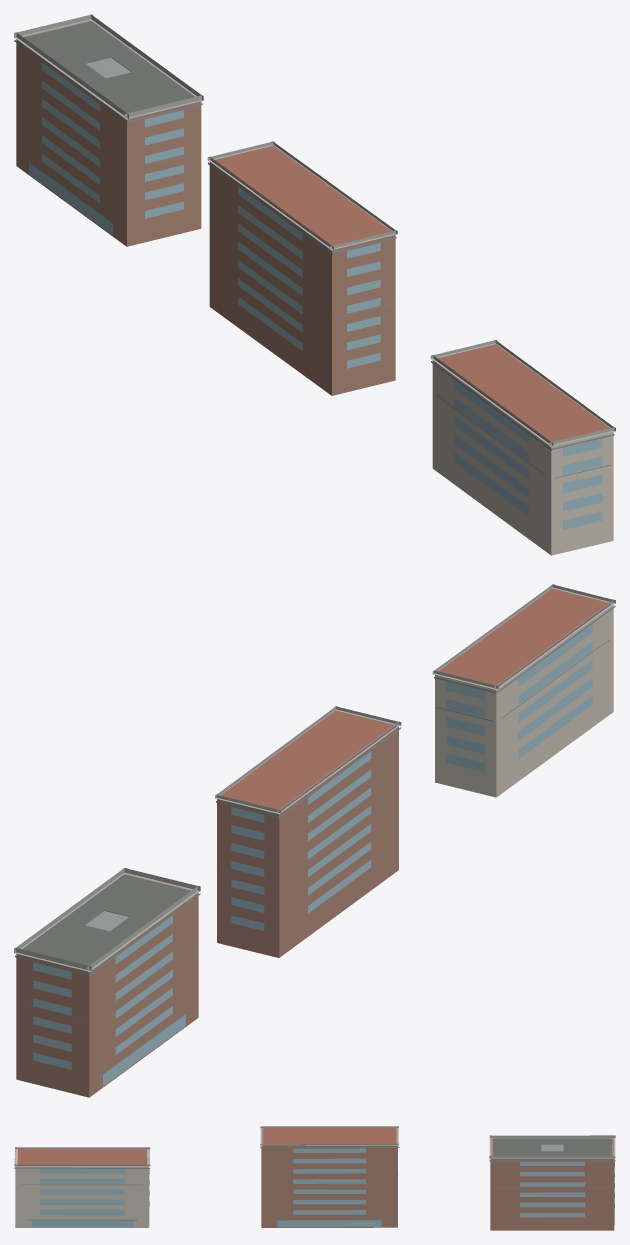
Rendered from tile-m004-p001.glb.
3 views of the same model, one above another, from view 1: azimuth 30°, elevation 25°; view 2: azimuth 150°, elevation 25°; view 3: azimuth 270°, elevation 25° (orthographic). The views are drawn at different scales.
Parts seen in each view (by area): view 1: building-0051-mesh-5, building-0057-mesh-10, building-0046-mesh-0, building-0051-mesh-8, building-0046-mesh-3, building-0057-mesh-13, building-0057-mesh-11, building-0051-mesh-6, building-0046-mesh-1, building-0057-mesh-14, building-0051-mesh-9, building-0046-mesh-4 (+2 smaller); view 2: building-0051-mesh-5, building-0057-mesh-10, building-0046-mesh-0, building-0051-mesh-8, building-0046-mesh-3, building-0057-mesh-13, building-0057-mesh-11, building-0046-mesh-1, building-0051-mesh-6, building-0057-mesh-14, building-0051-mesh-9, building-0046-mesh-4 (+3 smaller); view 3: building-0051-mesh-5, building-0057-mesh-10, building-0046-mesh-0, building-0046-mesh-1, building-0051-mesh-6, building-0051-mesh-8, building-0046-mesh-3, building-0057-mesh-11, building-0057-mesh-13, building-0057-mesh-14, building-0046-mesh-4, building-0051-mesh-9 (+4 smaller).
Part boxes in pixels (box(x1,y1,x2,y2)): building-0051-mesh-5: box(209, 162, 395, 395); building-0057-mesh-10: box(16, 20, 201, 246); building-0046-mesh-0: box(432, 360, 613, 555); building-0051-mesh-8: box(212, 145, 391, 246); building-0046-mesh-3: box(435, 344, 609, 442); building-0057-mesh-13: box(23, 21, 194, 113); building-0057-mesh-11: box(29, 62, 183, 235); building-0051-mesh-6: box(238, 186, 380, 368); building-0046-mesh-1: box(454, 380, 602, 529); building-0057-mesh-14: box(14, 14, 203, 119); building-0051-mesh-9: box(207, 141, 397, 250); building-0046-mesh-4: box(430, 340, 615, 446); building-0051-mesh-5: box(217, 727, 398, 957); building-0057-mesh-10: box(16, 874, 198, 1097); building-0046-mesh-0: box(435, 605, 613, 797); building-0051-mesh-8: box(221, 710, 396, 810); building-0046-mesh-3: box(439, 588, 610, 686); building-0057-mesh-13: box(22, 874, 190, 965); building-0057-mesh-11: box(33, 915, 185, 1086); building-0046-mesh-1: box(446, 624, 592, 772); building-0051-mesh-6: box(231, 751, 371, 930); building-0057-mesh-14: box(14, 868, 200, 971); building-0051-mesh-9: box(215, 706, 401, 814); building-0046-mesh-4: box(432, 584, 615, 689); building-0051-mesh-5: box(261, 1128, 397, 1227); building-0057-mesh-10: box(490, 1138, 614, 1230); building-0046-mesh-0: box(15, 1149, 149, 1227); building-0046-mesh-1: box(31, 1168, 149, 1227); building-0051-mesh-6: box(277, 1148, 381, 1227); building-0051-mesh-8: box(263, 1128, 395, 1145); building-0046-mesh-3: box(17, 1148, 147, 1165); building-0057-mesh-11: box(520, 1161, 614, 1217); building-0057-mesh-13: box(493, 1138, 612, 1155); building-0057-mesh-14: box(489, 1135, 615, 1159); building-0046-mesh-4: box(14, 1147, 150, 1166); building-0051-mesh-9: box(260, 1126, 398, 1146).
Size of the model in its own units: 14.9 by 27.35 by 178.
